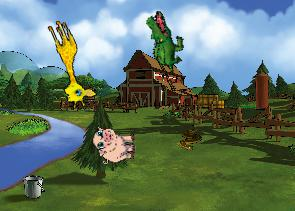crocodile: (131, 8, 197, 76)
giraffe: (36, 17, 99, 111)
pig: (93, 125, 136, 164)
